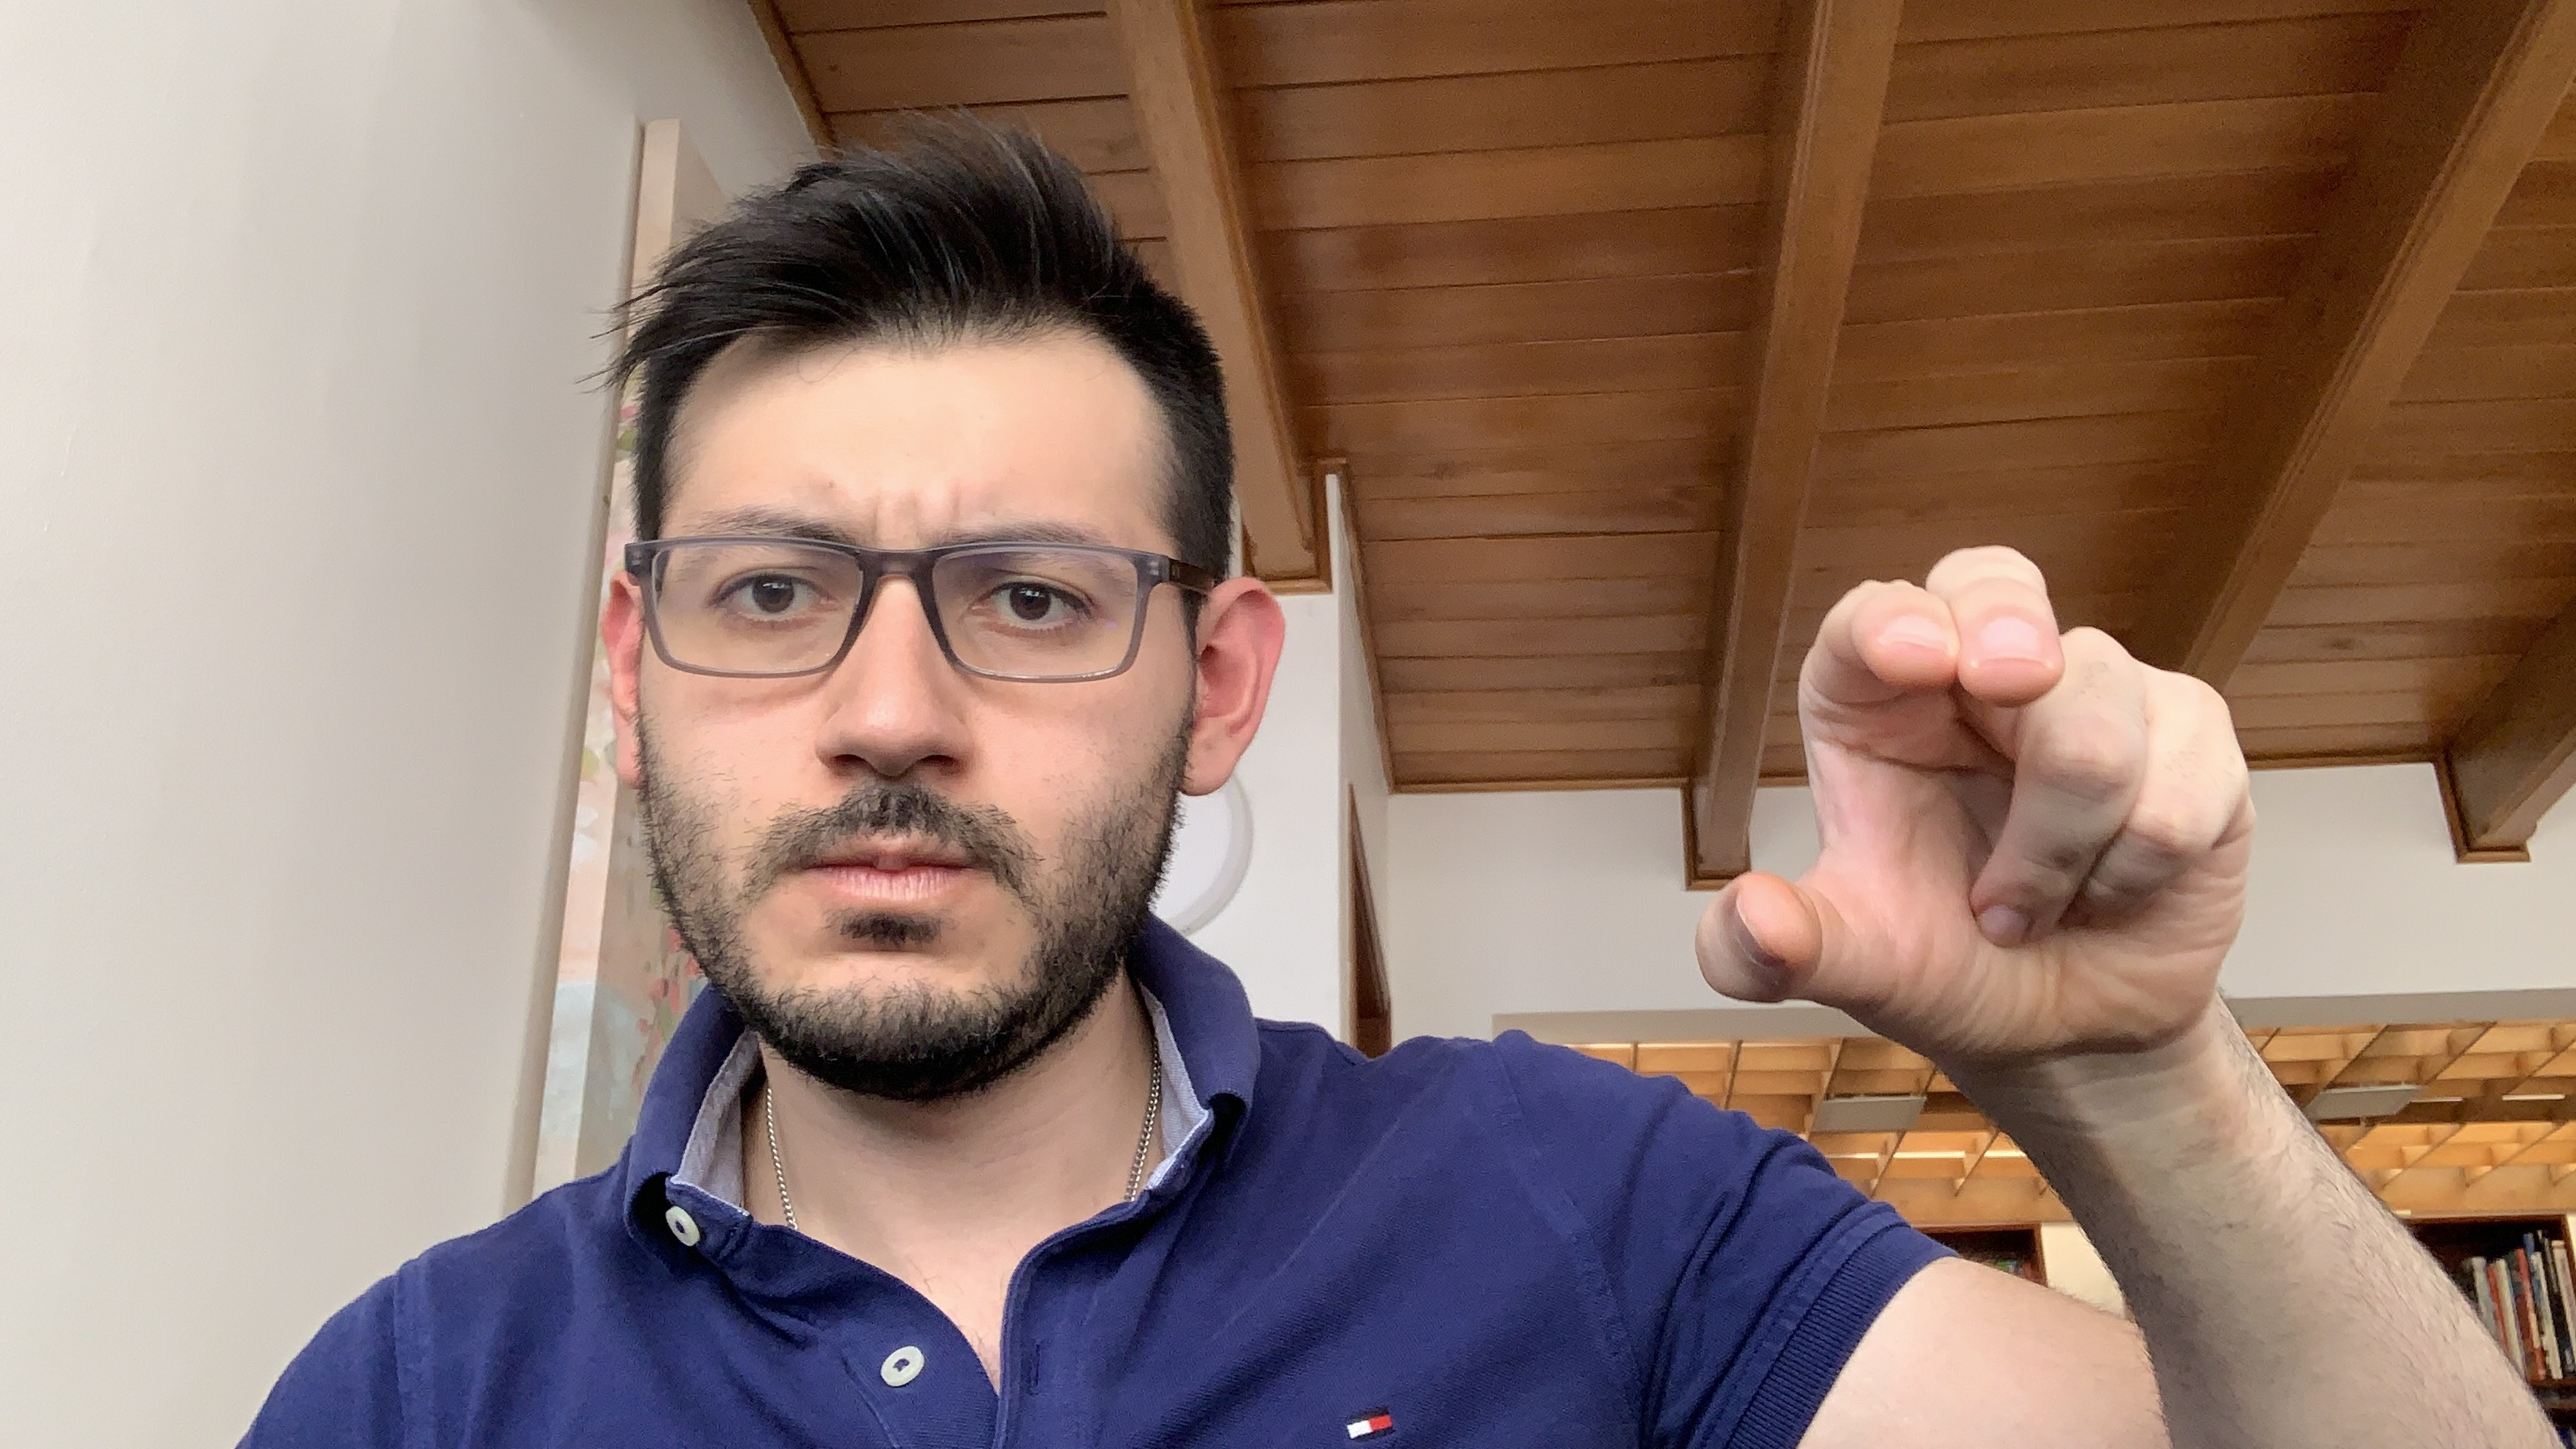No: (1684, 536, 2281, 1092)
